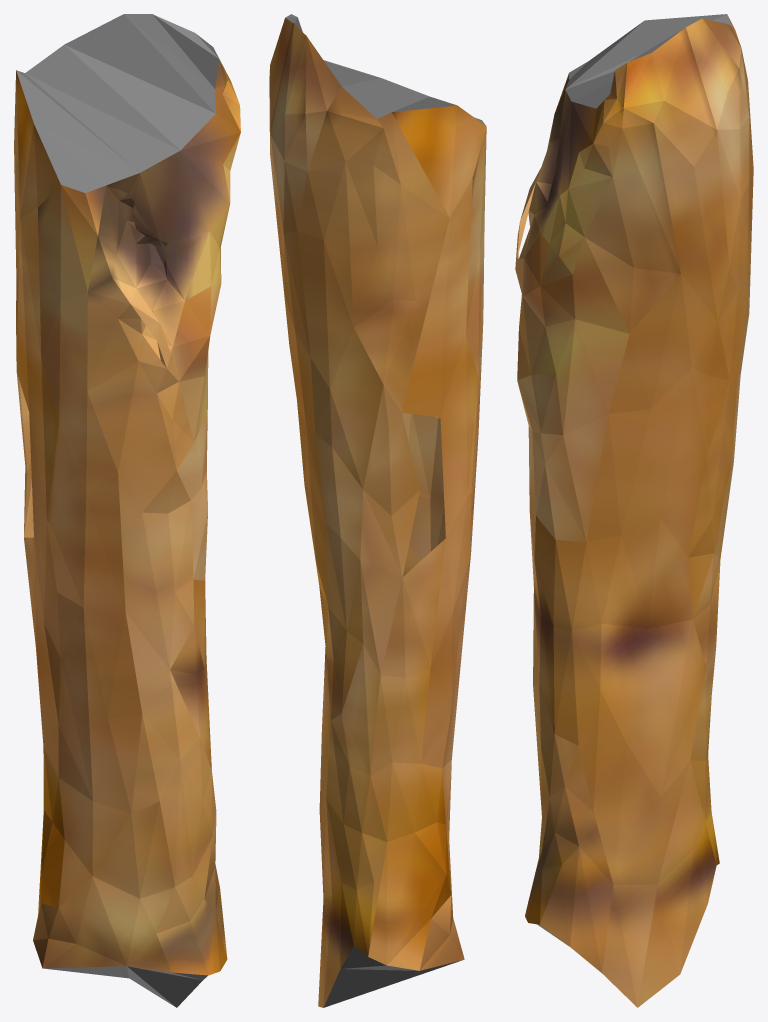
Rendered from meropodite5_right_collision.obj.
3 renders of one model, left to right at view 1: azimuth 30°, elevation 25°; view 2: azimuth 150°, elevation 25°; view 3: azimuth 270°, elevation 25°, orthographic. The views are drawn at different scales.
Parts seen in each view (by area): view 1: 5_left_leg_5_left.029; view 2: 5_left_leg_5_left.029; view 3: 5_left_leg_5_left.029.
Boxes of the visible parts, box(x1,y1,x2,y2) form: 5_left_leg_5_left.029: box(14, 14, 240, 1007); 5_left_leg_5_left.029: box(269, 14, 486, 1007); 5_left_leg_5_left.029: box(515, 14, 753, 1007).
Bounding box in the file's own units: 0.3339 × 1.62 × 0.357.
15 materials, 13 textured.
